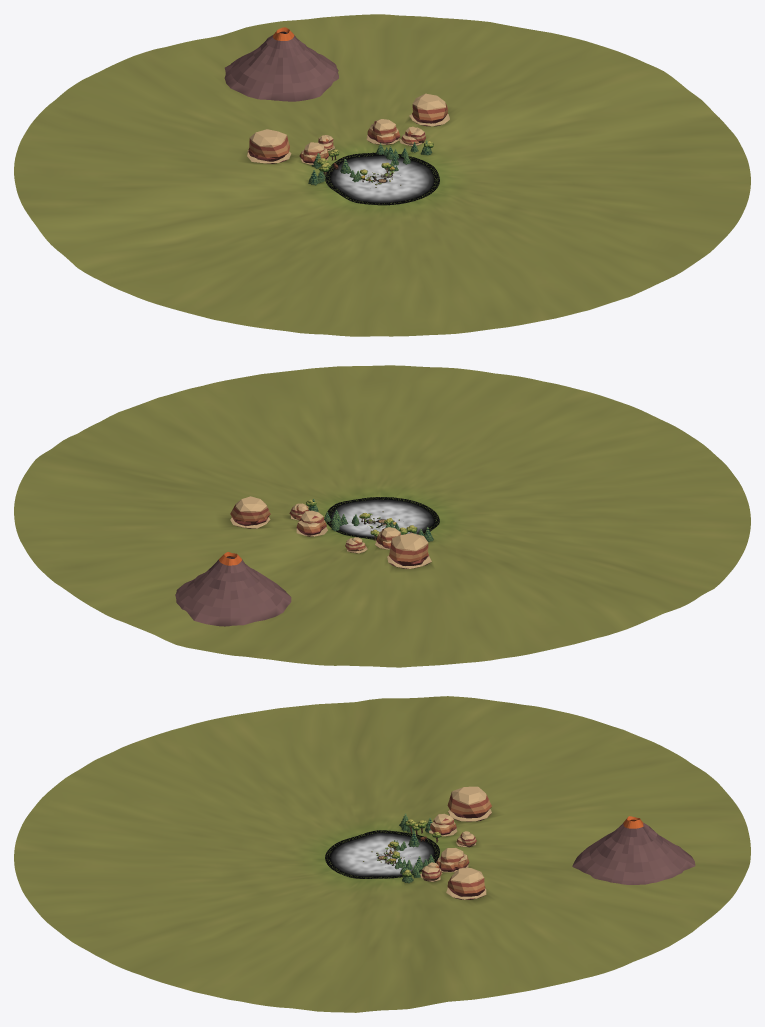
The model's file is era0.glb.
3 views of the same model, one above another, from view 1: azimuth 30°, elevation 25°; view 2: azimuth 150°, elevation 25°; view 3: azimuth 270°, elevation 25° (orthographic).
Visible parts, largest first — view 1: terrain, volcano.001, grassmap, mesa_b.096, mesa_b.100, mesa_a.098; view 2: terrain, volcano.001, grassmap, mesa_b.096, mesa_b.100, mesa_a.098; view 3: terrain, volcano.001, grassmap, mesa_b.096, mesa_b.100, mesa_a.098.
Part boxes in pixels (left/top/right/bottom): terrain: left=14, top=14, right=750, bottom=336; volcano.001: left=224, top=27, right=338, bottom=101; grassmap: left=325, top=152, right=439, bottom=205; mesa_b.096: left=247, top=129, right=291, bottom=163; mesa_b.100: left=409, top=93, right=449, bottom=126; mesa_a.098: left=366, top=119, right=400, bottom=144; terrain: left=14, top=365, right=750, bottom=667; volcano.001: left=175, top=552, right=291, bottom=626; grassmap: left=325, top=497, right=439, bottom=539; mesa_b.096: left=387, top=533, right=431, bottom=568; mesa_b.100: left=230, top=496, right=270, bottom=528; mesa_a.098: left=296, top=510, right=327, bottom=536; terrain: left=14, top=696, right=750, bottom=1012; volcano.001: left=572, top=816, right=695, bottom=884; grassmap: left=325, top=830, right=439, bottom=878; mesa_b.096: left=447, top=786, right=491, bottom=821; mesa_b.100: left=446, top=867, right=486, bottom=899; mesa_a.098: left=436, top=848, right=469, bottom=872.
Bounding box in the file's own units: 440 × 35.13 × 440.
